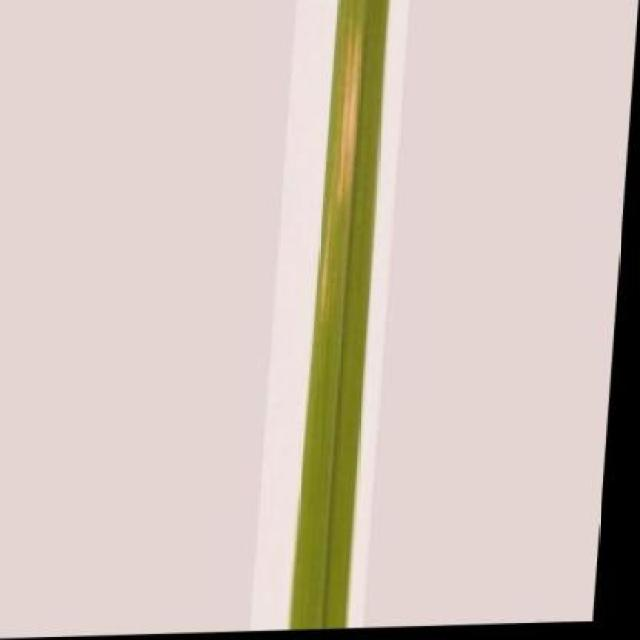Brown_Spot: (296, 0, 396, 632)
